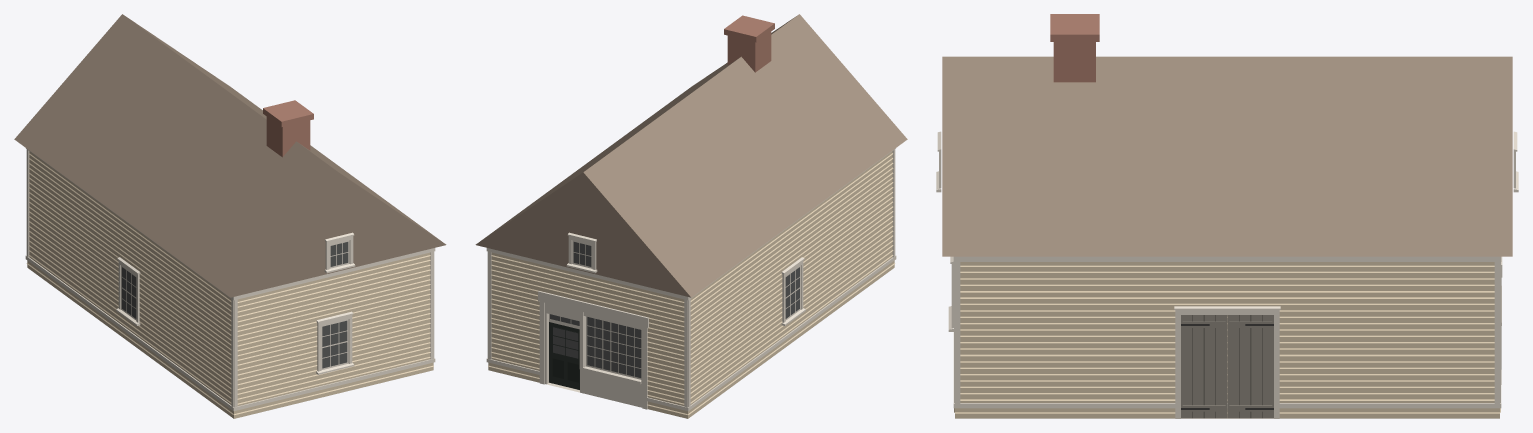
File: recon_1835_core_c2_045__inferred_1835.glb
3 renders of one model, left to right at view 1: azimuth 30°, elevation 25°; view 2: azimuth 150°, elevation 25°; view 3: azimuth 270°, elevation 25°, orthographic. The views are drawn at different scales.
Parts seen in each view (by area): view 1: recon_1835_core_c2_045__inferred_1835; view 2: recon_1835_core_c2_045__inferred_1835; view 3: recon_1835_core_c2_045__inferred_1835.
Part boxes in pixels (bbox=[...]): recon_1835_core_c2_045__inferred_1835: bbox=[14, 14, 446, 418]; recon_1835_core_c2_045__inferred_1835: bbox=[475, 14, 907, 418]; recon_1835_core_c2_045__inferred_1835: bbox=[936, 14, 1518, 418].
Bounding box in the file's own units: 6.55 × 7.24 × 11.59.
